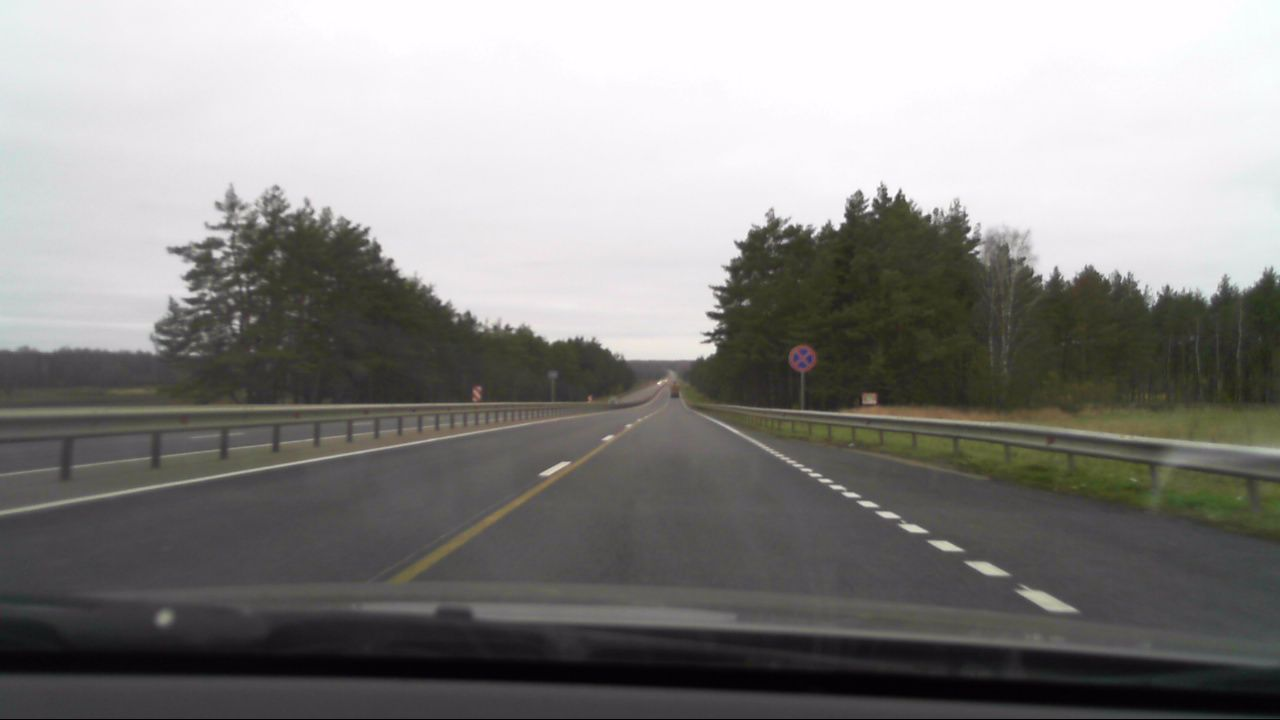No Parking: (788, 343, 816, 374)
